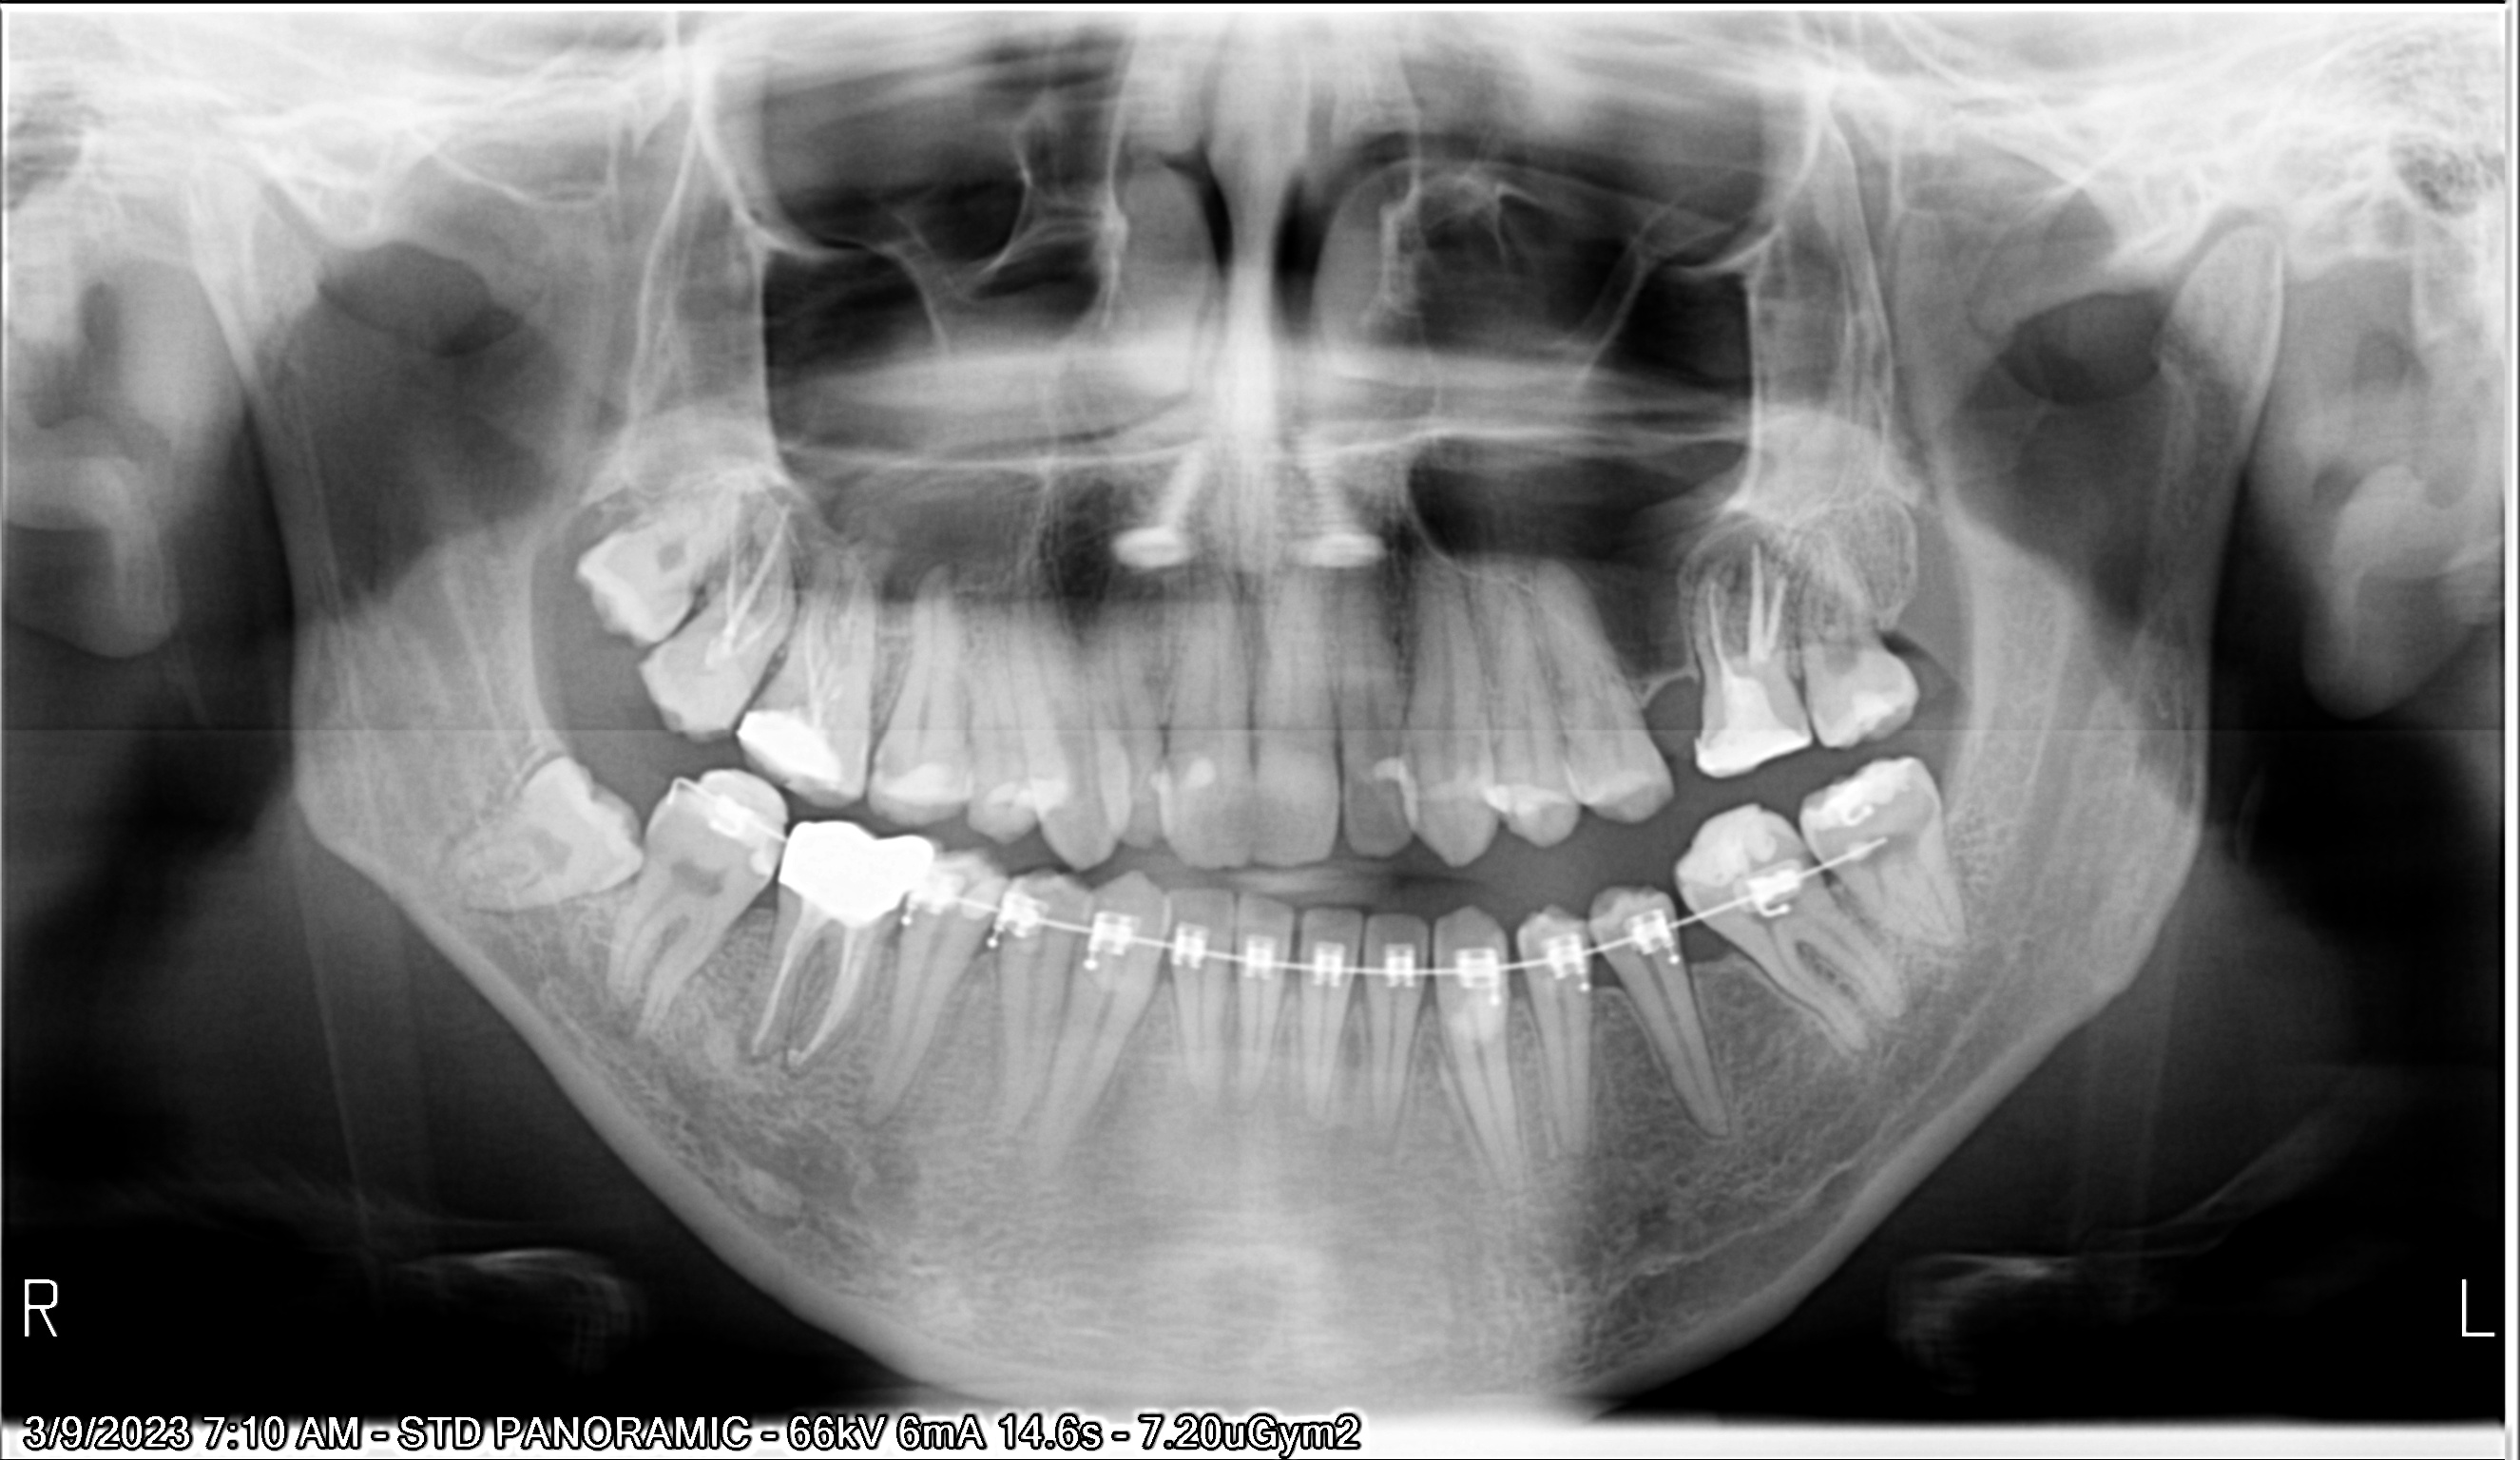END: (742, 900, 865, 1081), (702, 478, 806, 688), (1688, 534, 1800, 681)
IMT: (436, 739, 648, 925)
OBT: (1691, 667, 1813, 784), (1668, 800, 1802, 895), (1799, 749, 1929, 845), (730, 693, 846, 786), (631, 648, 740, 740), (1804, 673, 1915, 751), (1152, 740, 1227, 846), (859, 754, 975, 822), (1366, 749, 1423, 853)
ORD: (1086, 904, 1615, 998), (1734, 838, 1877, 952), (657, 765, 791, 878), (893, 859, 984, 958), (987, 881, 1083, 958), (1611, 904, 1684, 977)
PRR: (782, 806, 945, 923)
